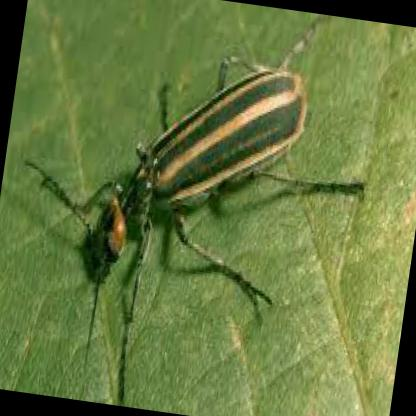blister beetle: (86, 52, 341, 344)
